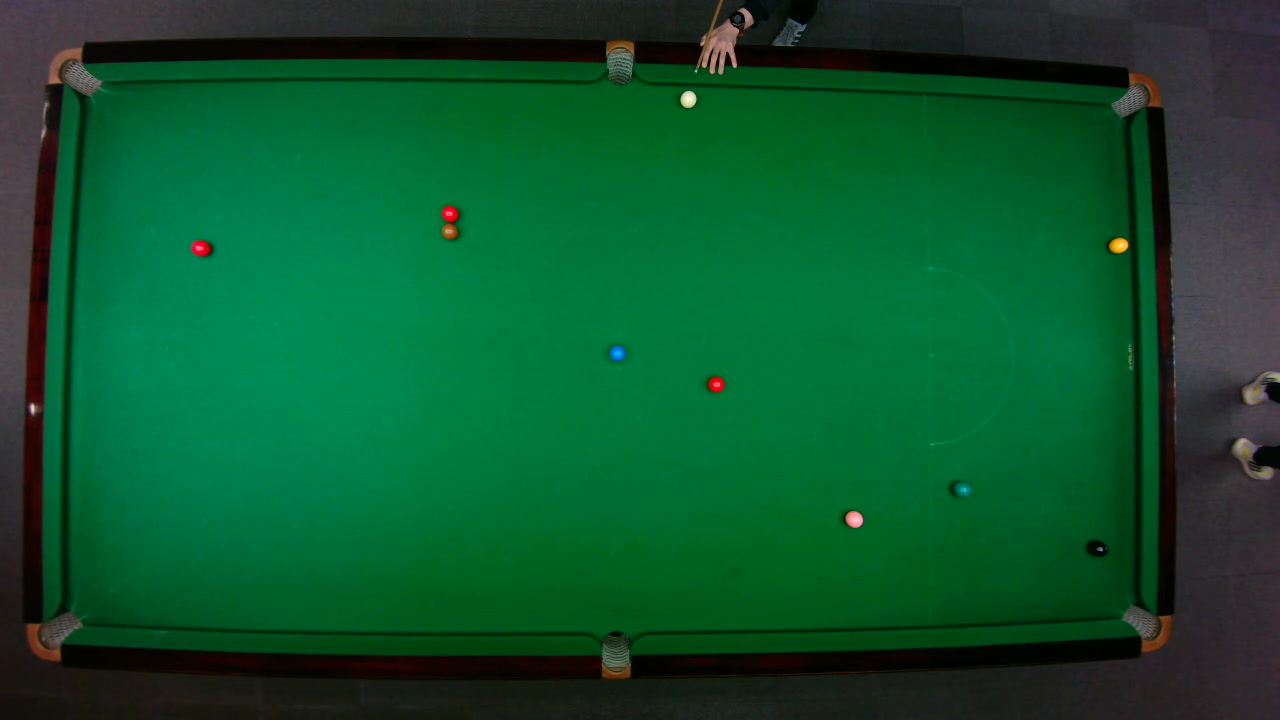bag: (25, 609, 83, 662), (45, 46, 102, 96), (1119, 603, 1172, 652), (1108, 71, 1161, 117), (600, 629, 630, 680), (605, 38, 633, 85)
black: (1087, 539, 1108, 557)
blue: (607, 344, 626, 361)
brown: (440, 223, 458, 240)
cue: (693, 0, 723, 73)
green: (951, 480, 972, 497)
pink: (843, 509, 864, 528)
red: (189, 238, 211, 257), (706, 374, 725, 393), (439, 204, 459, 222)
white: (678, 89, 697, 108)
yellow: (1107, 236, 1129, 253)
zone: (927, 265, 1014, 445)
